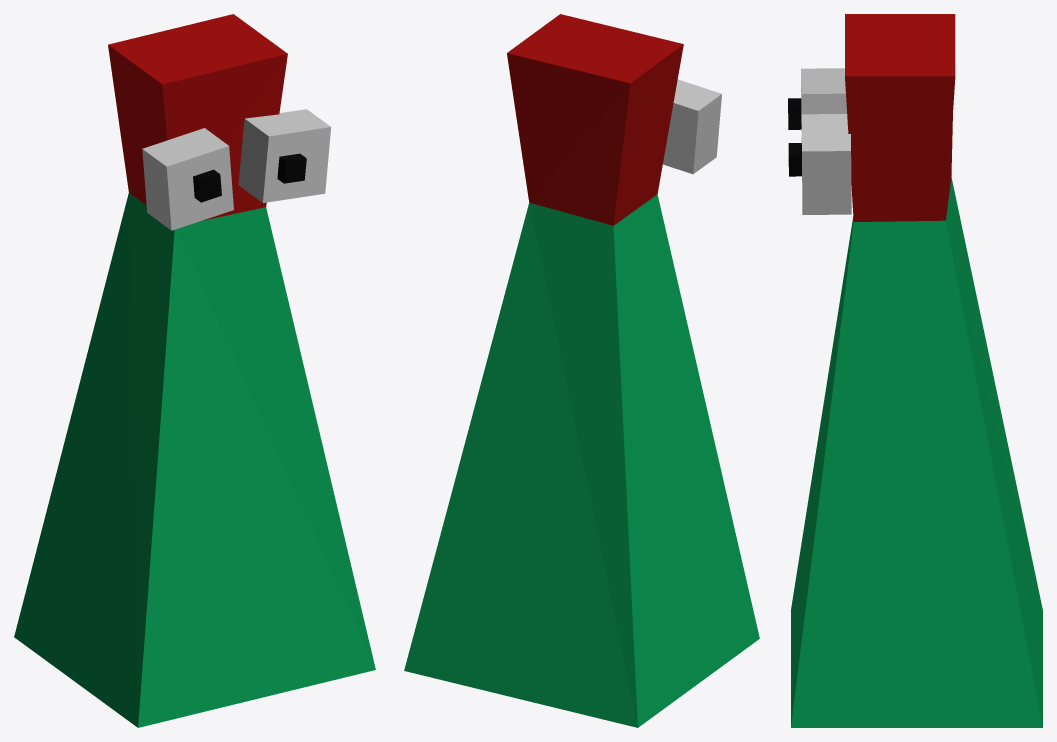
File: personal.obj
3 renders of one model, left to right at view 1: azimuth 30°, elevation 25°; view 2: azimuth 150°, elevation 25°; view 3: azimuth 270°, elevation 25°, orthographic. The views are drawn at different scales.
Parts seen in each view (by area): view 1: Plane.001; view 2: Plane.001; view 3: Plane.001.
Boxes of the visible parts, bbox=[...] form: Plane.001: bbox=[14, 14, 375, 727]; Plane.001: bbox=[404, 14, 759, 727]; Plane.001: bbox=[788, 14, 1042, 727].
Bounding box in the file's own units: 18.4 × 45.23 × 16.82.
